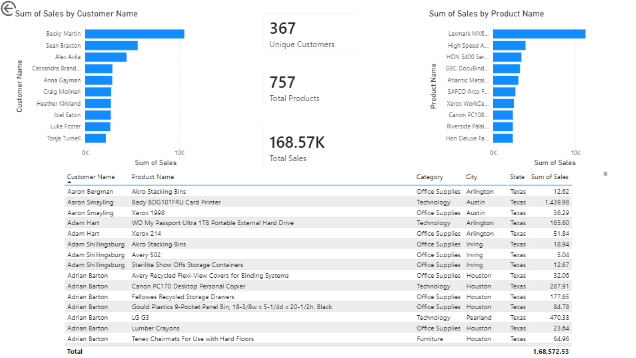

Layout of this report page (visuals, bound fields, positions):
{"tool":"powerbi","page":{"name":"Customer Details","canvas":[1280,720],"ordinal":3},"visuals":[{"type":"actionButton","box":[0,0,100,40],"z":0},{"type":"cardVisual","fields":{"Data":["train.Total Sales"]},"box":[512.5,230,225,130],"z":1000},{"type":"cardVisual","fields":{"Data":["train.Unique Customers"]},"box":[512.5,12.5,225,110],"z":2000},{"type":"cardVisual","fields":{"Data":["train.Total Products"]},"box":[512.5,122.5,225,107.5],"z":3000},{"type":"clusteredBarChart","fields":{"Y":["Sum(train.Sales)"],"Category":["train.Customer Name"]},"box":[27.5,20,442.5,320],"z":4000},{"type":"clusteredBarChart","fields":{"Category":["train.Product Name"],"Y":["Sum(train.Sales)"]},"box":[855,20,395,320],"z":5000},{"type":"tableEx","fields":{"Values":["train.Customer Name","train.Product Name","train.Category","train.City","train.State","Sum(train.Sales)"]},"box":[125,340,1097.5,380],"z":6000}]}

Visuals, with their boxes in screenshot pixels (x1, y1, x2, y2), scaled from the page's 1280x720 canvas onto the 636x358 screenshot:
actionButton: bbox(0, 0, 50, 20)
cardVisual - train.Total Sales: bbox(255, 114, 366, 179)
cardVisual - train.Unique Customers: bbox(255, 6, 366, 61)
cardVisual - train.Total Products: bbox(255, 61, 366, 114)
clusteredBarChart - Sum(train.Sales) x train.Customer Name: bbox(14, 10, 234, 169)
clusteredBarChart - train.Product Name x Sum(train.Sales): bbox(425, 10, 621, 169)
tableEx - train.Customer Name x train.Product Name: bbox(62, 169, 607, 357)
